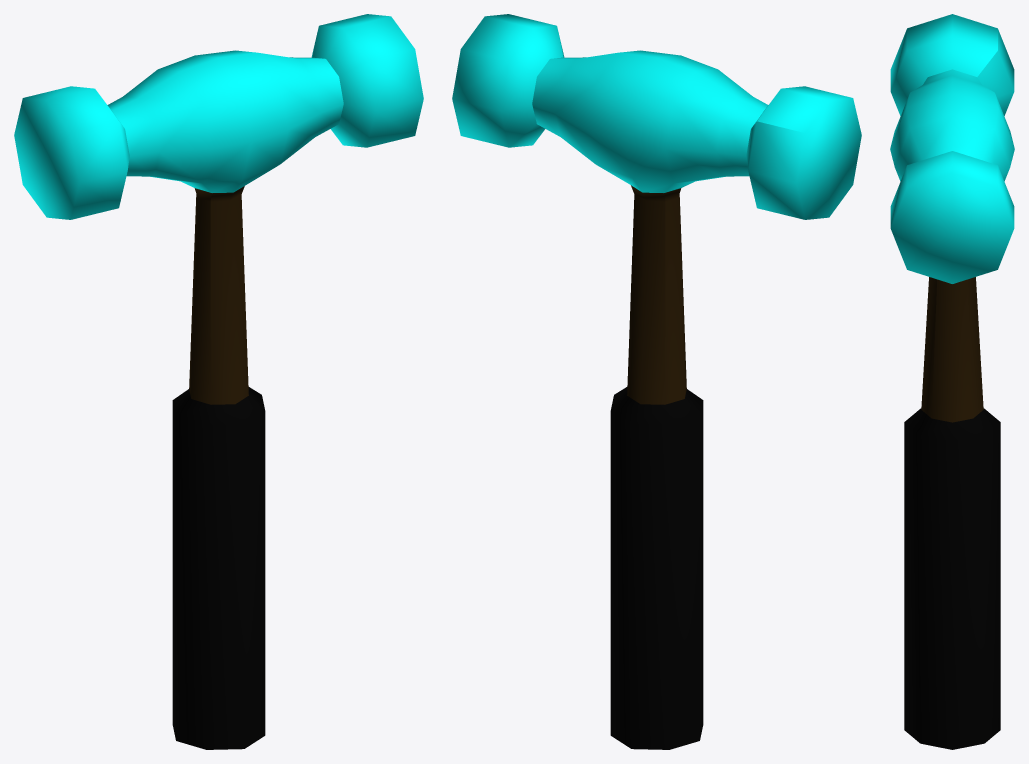
The model's file is Hammer.obj.
The picture shows the model from 3 angles, left to right: view 1: azimuth 30°, elevation 25°; view 2: azimuth 150°, elevation 25°; view 3: azimuth 270°, elevation 25°; orthographic projection. The views are drawn at different scales.
Parts seen in each view (by area): view 1: HammerMesh; view 2: HammerMesh; view 3: HammerMesh.
Part boxes in pixels (left/top/right/bottom): HammerMesh: left=14, top=14, right=423, bottom=749; HammerMesh: left=452, top=14, right=861, bottom=749; HammerMesh: left=890, top=14, right=1014, bottom=749.
Size of the model in its own units: 6.01 by 11.21 by 1.99.
